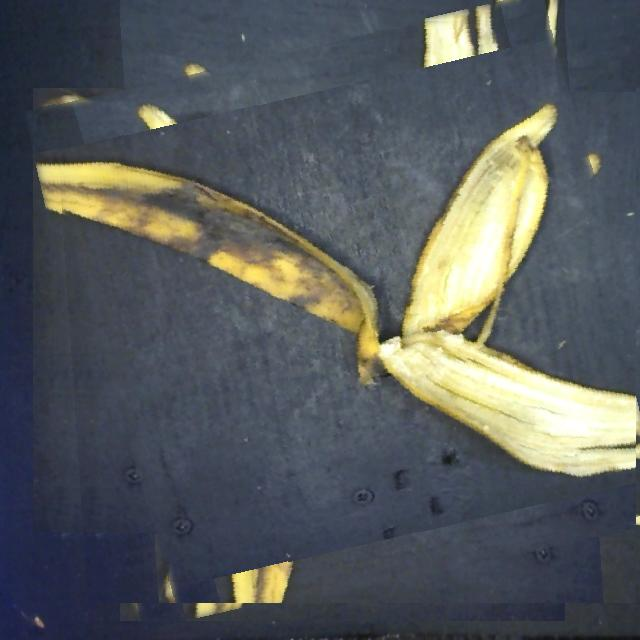biodegradable: (49, 18, 636, 603)
